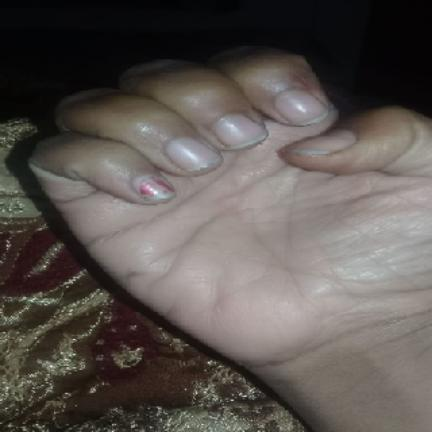Nail: (165, 137, 222, 172), (275, 89, 327, 125), (212, 114, 267, 148), (287, 129, 357, 155), (132, 174, 176, 202)
